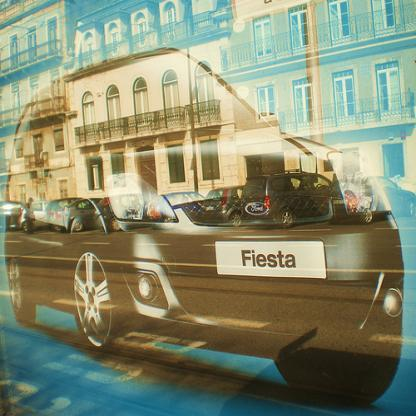car: (5, 44, 410, 406)
